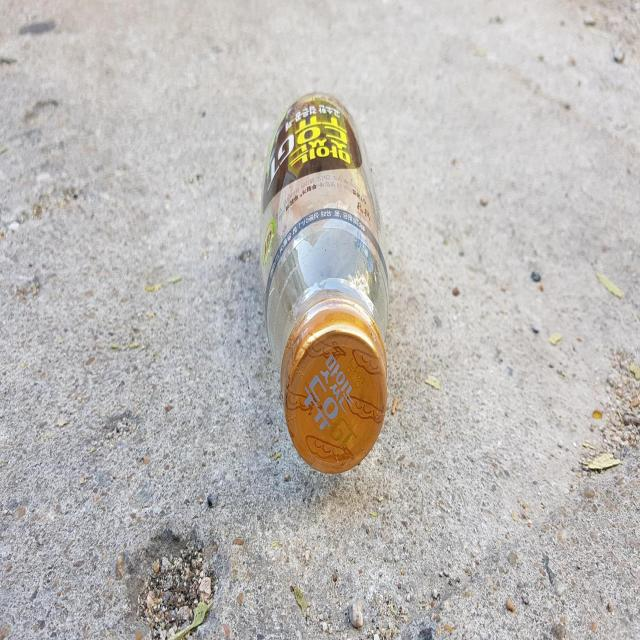glass: (261, 92, 389, 473)
